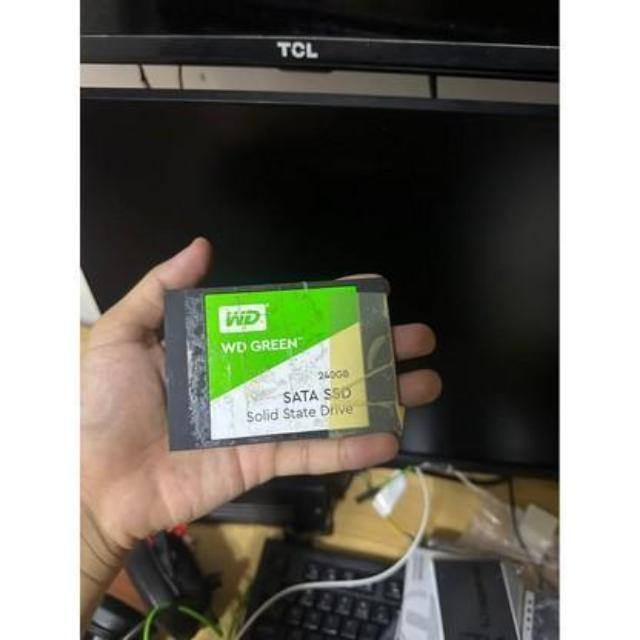DISK: (160, 276, 402, 456)
